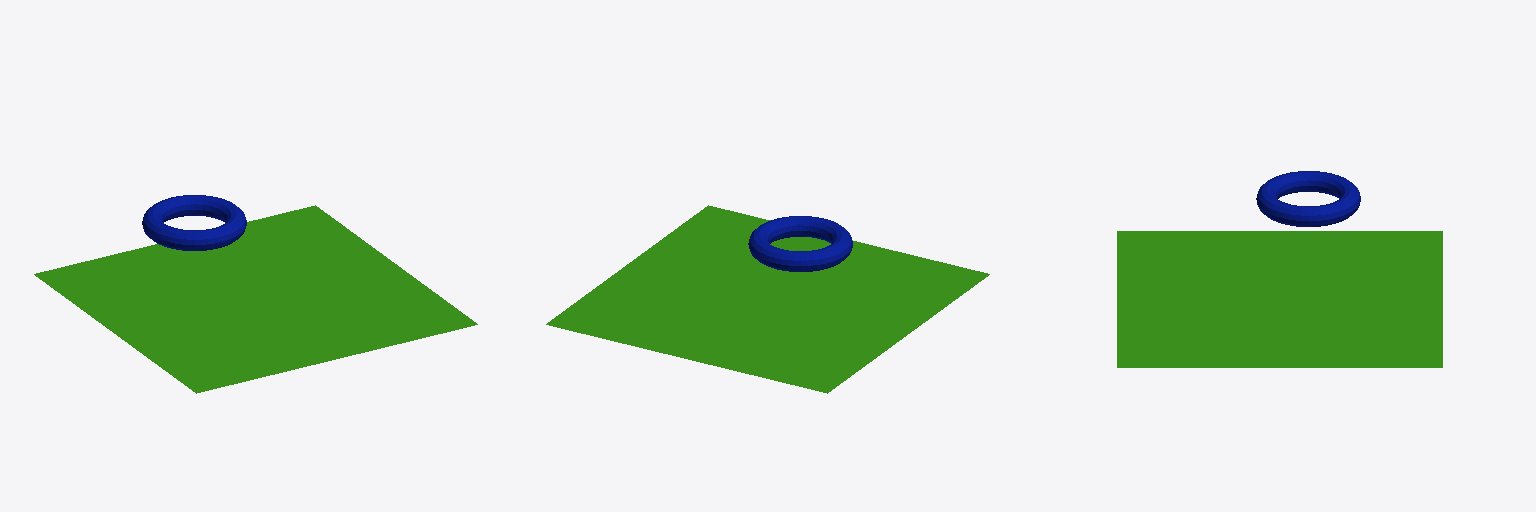
Rendered from shadow_test.obj.
3 views of the same model, side by side, from view 1: azimuth 30°, elevation 25°; view 2: azimuth 150°, elevation 25°; view 3: azimuth 270°, elevation 25° (orthographic).
Parts seen in each view (by area): view 1: Plane, Torus; view 2: Plane, Torus; view 3: Plane, Torus.
Part boxes in pixels (bbox=[...]): Plane: bbox=[34, 205, 477, 393]; Torus: bbox=[142, 195, 246, 250]; Plane: bbox=[546, 205, 989, 393]; Torus: bbox=[748, 216, 852, 271]; Plane: bbox=[1117, 231, 1442, 367]; Torus: bbox=[1256, 171, 1360, 226].
Bounding box in the file's own units: 7.78 × 2.29 × 7.78.